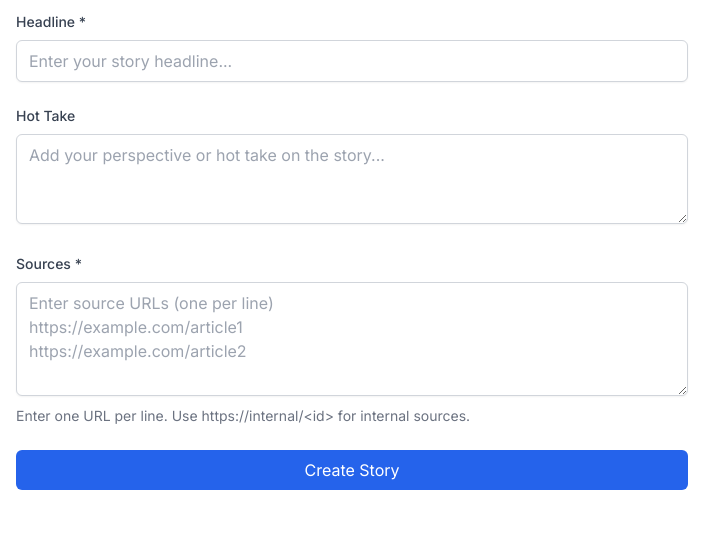
Test case: StoryCreationForm › shows validation errors for empty required fields
Click the button "Create Story".
click(352, 470)  # box 16,450 -> 688,490
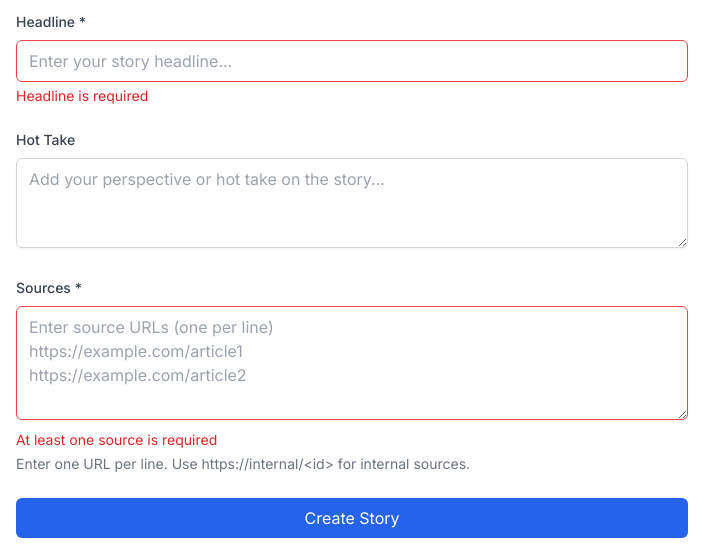
Check: the text "Headline is required" is shown, box 16,87 -> 148,104
Check: the text "At least one source is required" is shown, box 16,431 -> 217,448
